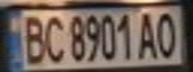0: (100, 11, 118, 61)
1: (115, 10, 136, 61)
8: (66, 11, 84, 63)
9: (81, 11, 103, 62)
A: (136, 9, 160, 60)
B: (18, 11, 48, 65)
C: (39, 11, 66, 64)
O: (151, 8, 181, 60)
